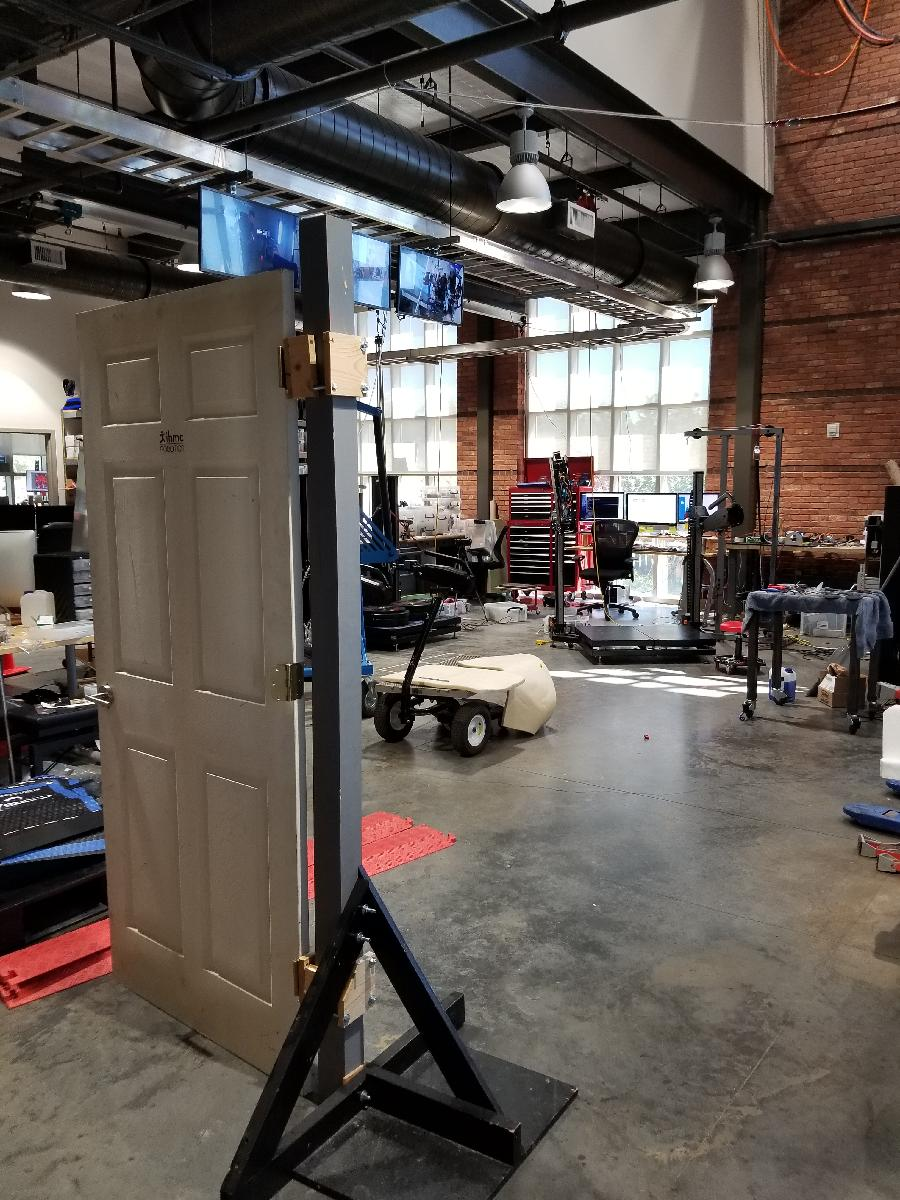door: (67, 262, 315, 1096)
doorHandle: (81, 681, 133, 710)
